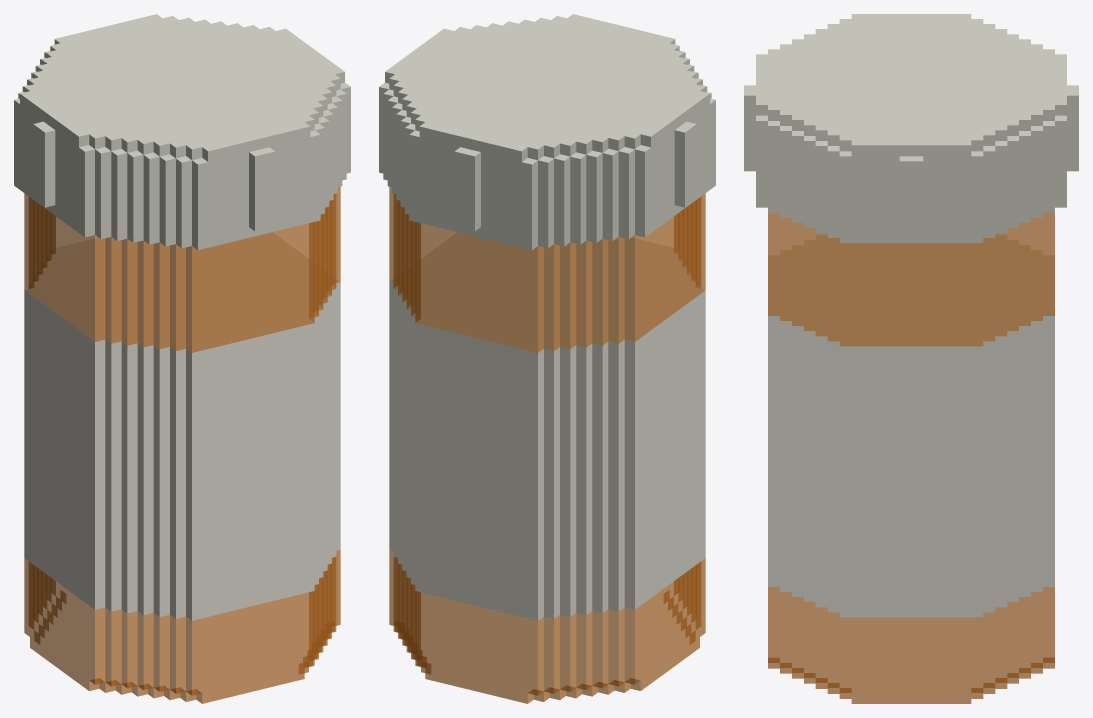
The model's file is bottle_plastic_pill_prescription.glb.
3 views of the same model, side by side, from view 1: azimuth 30°, elevation 25°; view 2: azimuth 150°, elevation 25°; view 3: azimuth 270°, elevation 25° (orthographic).
Visible parts, largest first — view 1: bottle_plastic_pill_prescription:compound; view 2: bottle_plastic_pill_prescription:compound; view 3: bottle_plastic_pill_prescription:compound.
Boxes of the visible parts, x1,y1,x2,y2 form: bottle_plastic_pill_prescription:compound: (14, 14, 350, 703); bottle_plastic_pill_prescription:compound: (379, 14, 715, 703); bottle_plastic_pill_prescription:compound: (744, 14, 1078, 703).
Size of the model in its own units: 0.056 by 0.104 by 0.056.
